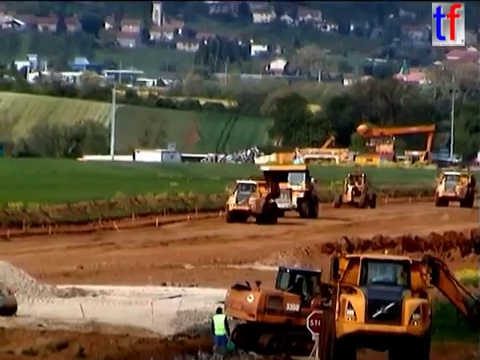crane: (354, 120, 437, 172)
excavator: (221, 252, 480, 360)
motor grader: (333, 170, 377, 210)
truck: (315, 251, 443, 360), (256, 163, 320, 220), (223, 177, 280, 226), (433, 166, 476, 208)
worker: (208, 304, 233, 360)
